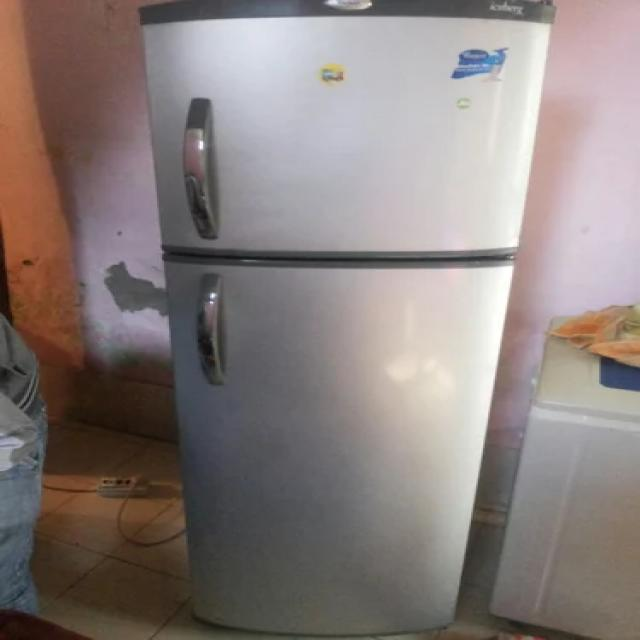refrigerator: (147, 16, 537, 640)
